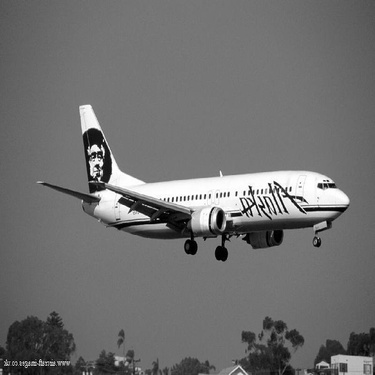airplane: (32, 93, 355, 259)
